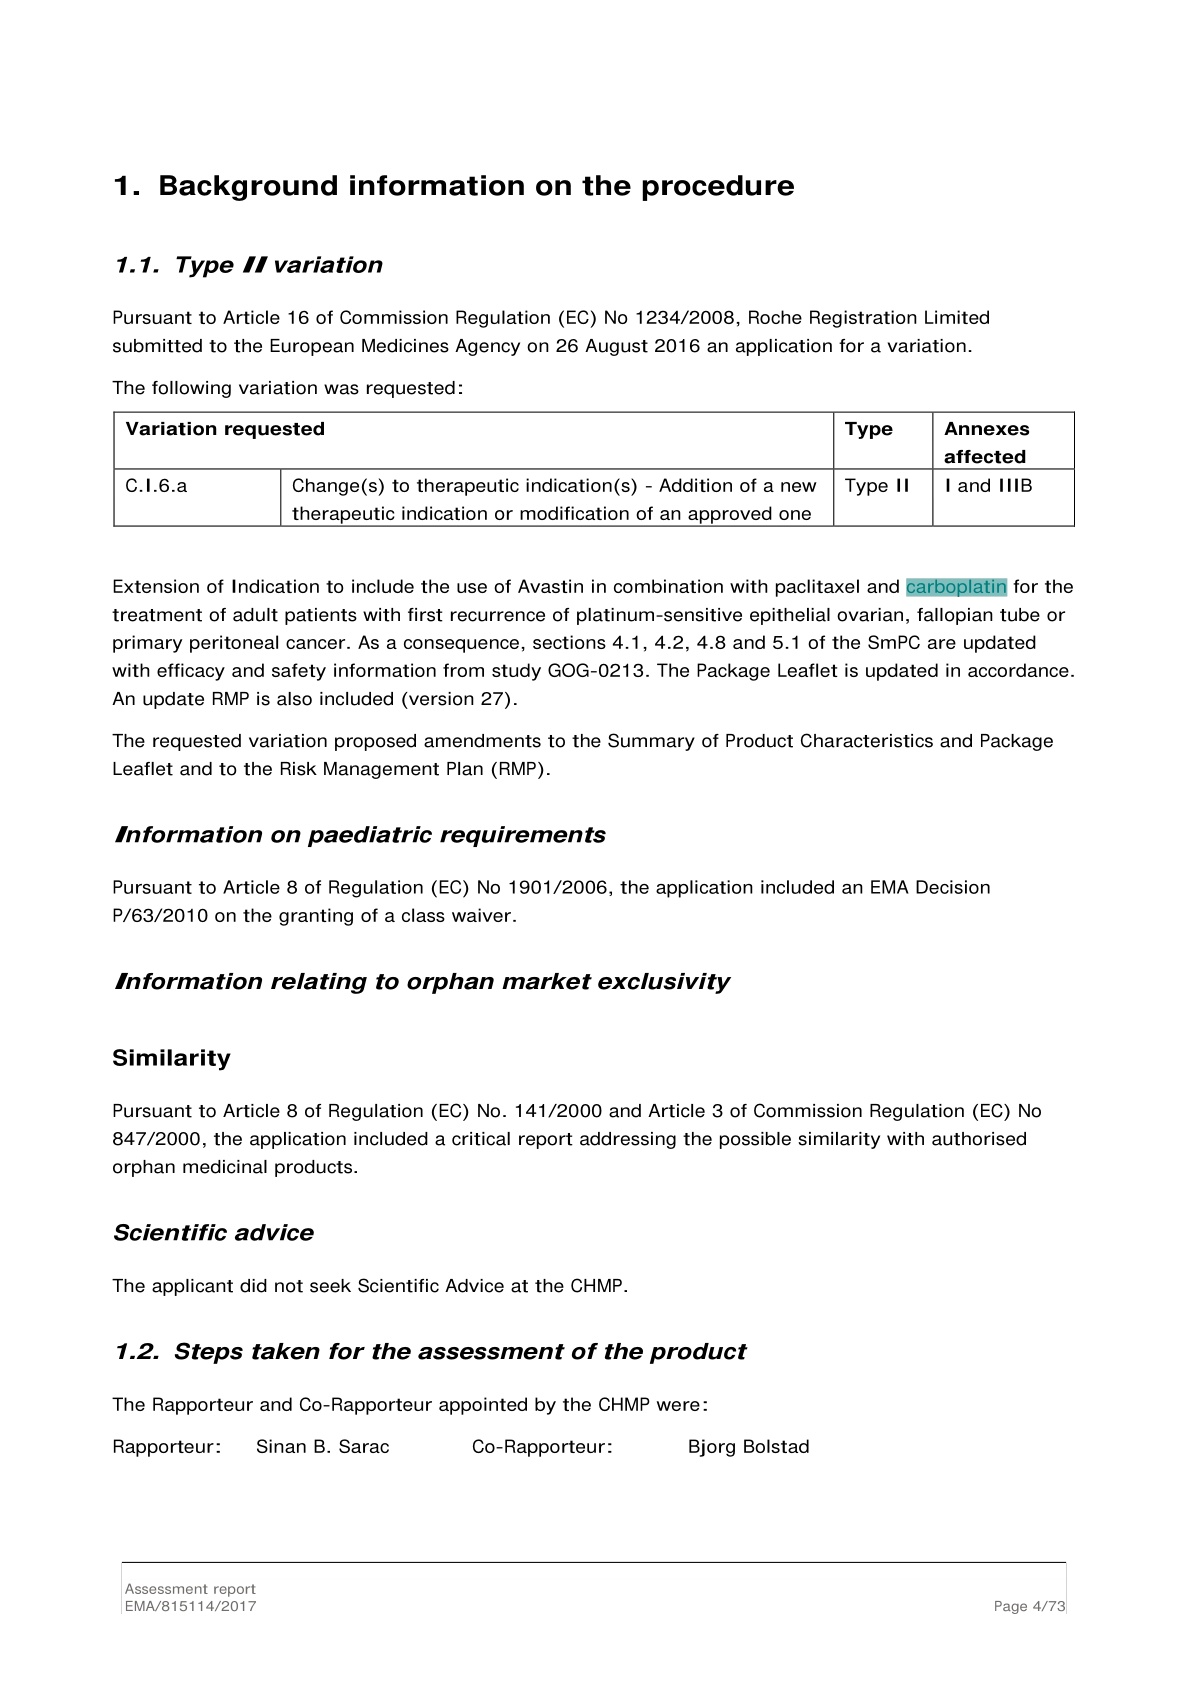merged_cells: (112, 411, 1075, 527)
